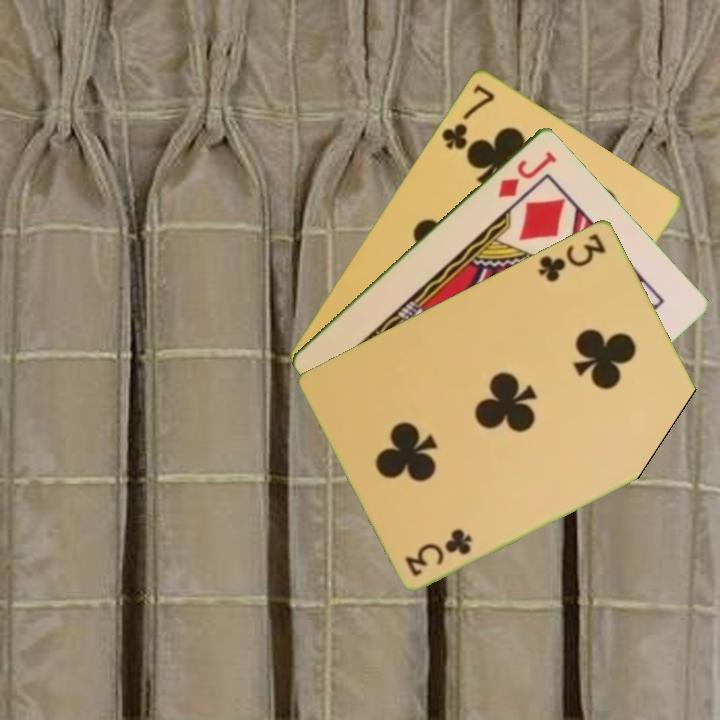3c: (534, 229, 609, 285), (402, 526, 476, 579)
7c: (438, 80, 498, 153)
Jd: (494, 147, 560, 201)
